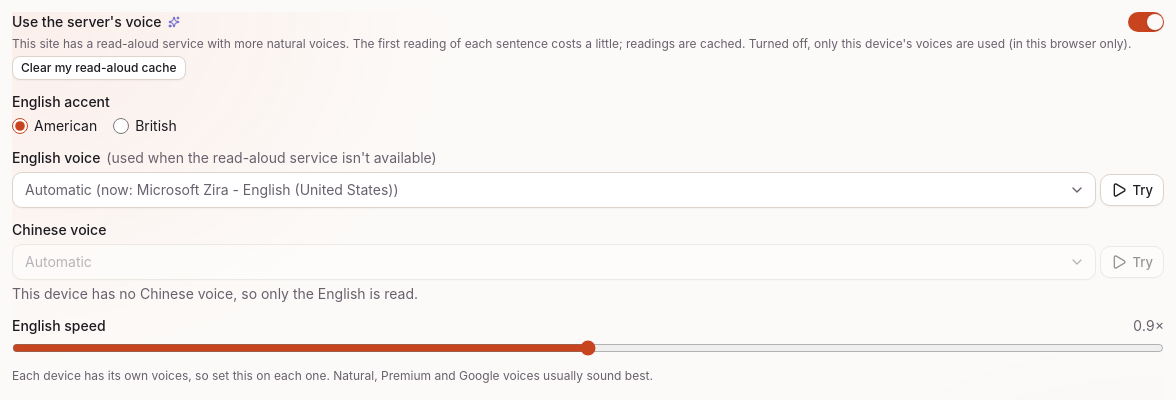
Scenario: SpeechSettings with a read-aloud service › is on by default, marks the AI, and turns off for this browser
The width and height of the screenshot is (1176, 400).
Expected: the button with test id "ai-badge-read_aloud" is shown, 166,14 -> 182,30
Expected: the text "(used when the read-aloud service isn't available)" is shown, 106,149 -> 437,166
Click the switch with test id "speech-server" at point(1146, 22), box 1128,12 -> 1164,32
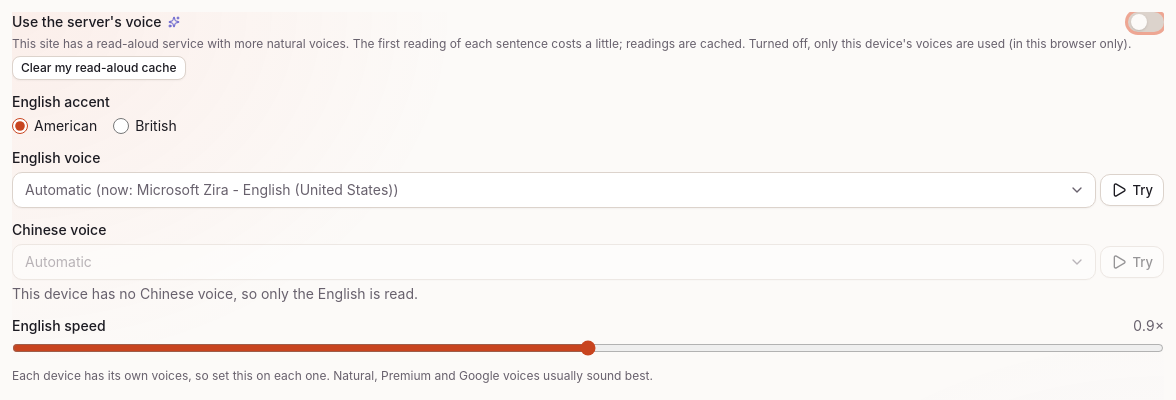
Result: the switch with test id "speech-server" is not checked at 1128,12 -> 1164,32
Result: the text "used when the read-aloud service isn't available" is gone
